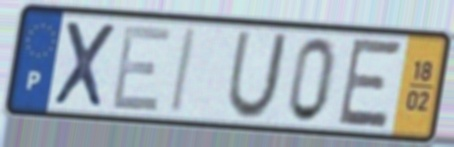0: (285, 33, 339, 126)
E: (334, 35, 406, 132), (108, 23, 175, 115)
I: (166, 25, 200, 117)
U: (223, 29, 291, 123)
X: (50, 17, 119, 111)
